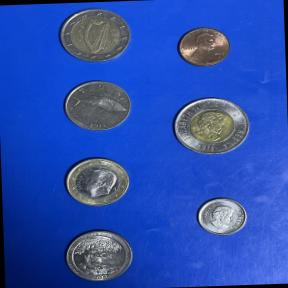coin: (166, 92, 255, 162), (55, 4, 137, 66), (56, 76, 136, 136), (58, 226, 137, 286), (59, 153, 133, 212), (190, 194, 252, 241), (174, 24, 234, 72)
